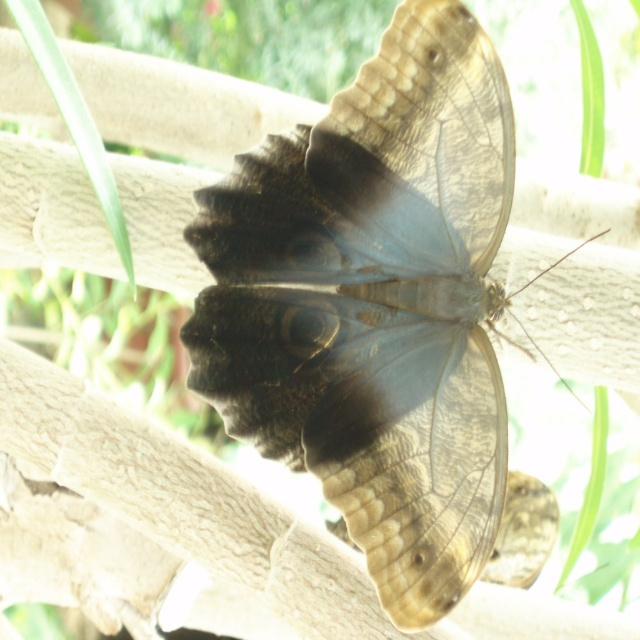Butterfly: (181, 0, 613, 633)
